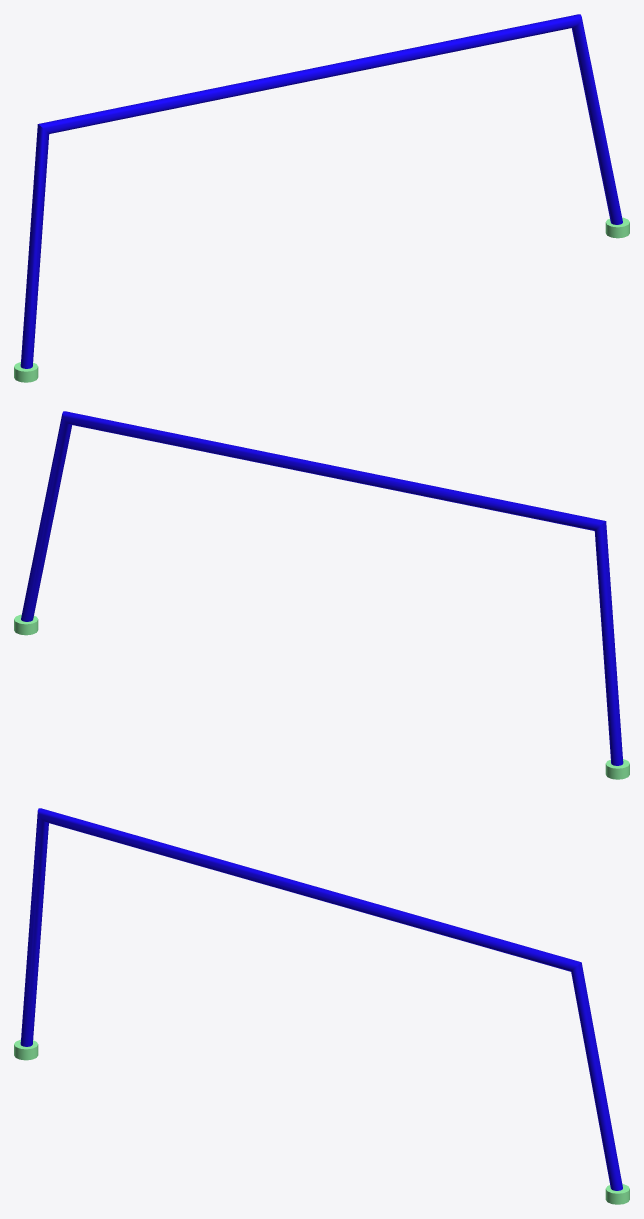
The picture shows the model from 3 angles, top to bottom: view 1: azimuth 30°, elevation 25°; view 2: azimuth 150°, elevation 25°; view 3: azimuth 330°, elevation 25°; orthographic projection.
Visible parts, largest first — view 1: Line004; view 2: Line004; view 3: Line004.
Boxes of the visible parts, box(x1,y1,x2,y2) form: Line004: box(14, 14, 629, 382); Line004: box(14, 411, 629, 779); Line004: box(14, 808, 629, 1204).
Size of the model in its own units: 291 by 114 by 10.
